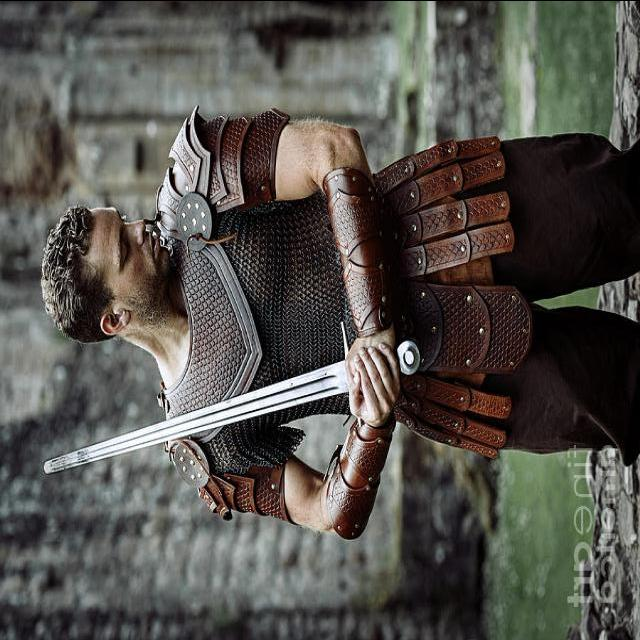sword: (43, 326, 415, 481)
